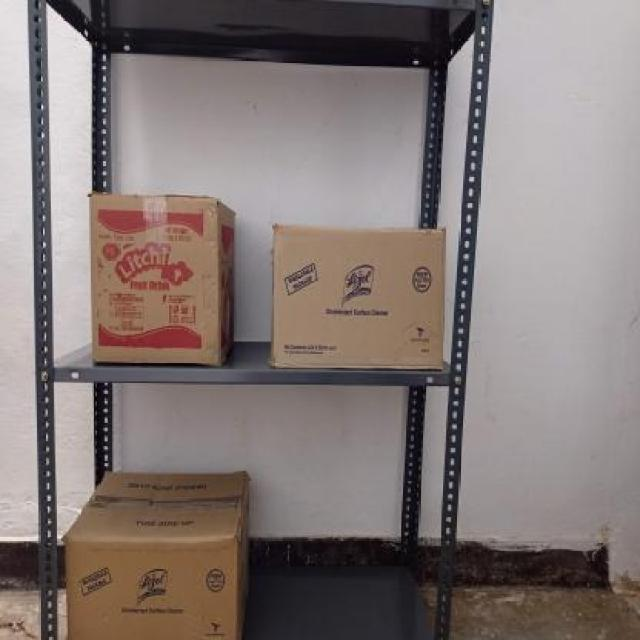box: (270, 222, 442, 376), (89, 193, 222, 367), (63, 538, 237, 640)
